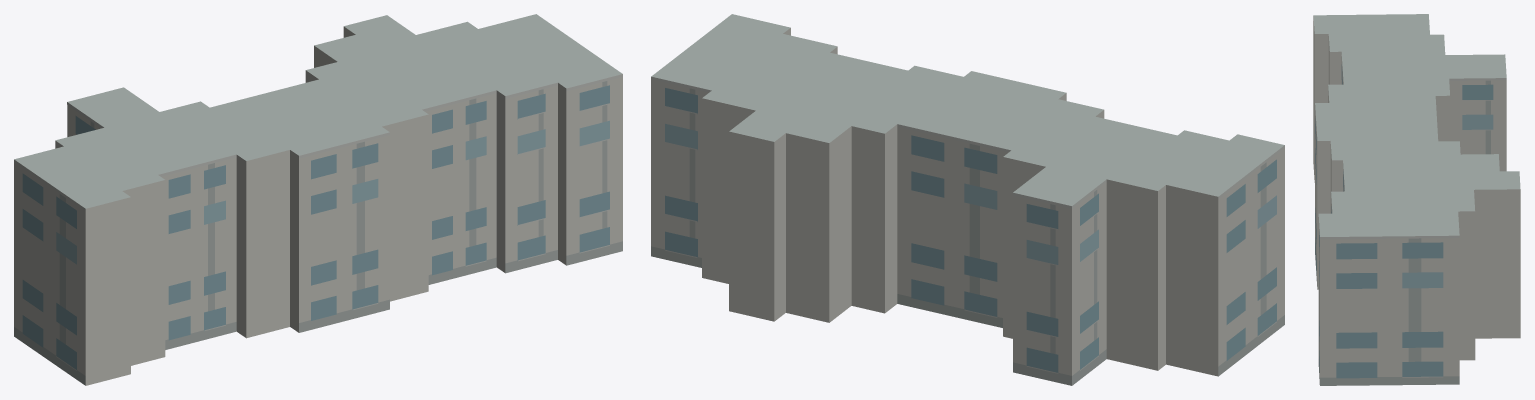
Rendered from residential-f5b42d2e-9456-4e09-880c-889478027ae4.glb.
3 views of the same model, side by side, from view 1: azimuth 30°, elevation 25°; view 2: azimuth 150°, elevation 25°; view 3: azimuth 270°, elevation 25° (orthographic). The views are drawn at different scales.
Visible parts, largest first — view 1: residential-f5b42d2e-9456-4e09-880c-889478027ae4.tmp; view 2: residential-f5b42d2e-9456-4e09-880c-889478027ae4.tmp; view 3: residential-f5b42d2e-9456-4e09-880c-889478027ae4.tmp.
Part boxes in pixels (x1,y1,x2,y2): residential-f5b42d2e-9456-4e09-880c-889478027ae4.tmp: (14,14,622,385); residential-f5b42d2e-9456-4e09-880c-889478027ae4.tmp: (651,14,1284,385); residential-f5b42d2e-9456-4e09-880c-889478027ae4.tmp: (1313,14,1520,385).
Size of the model in its own units: 49.03 by 15.25 by 19.23.
